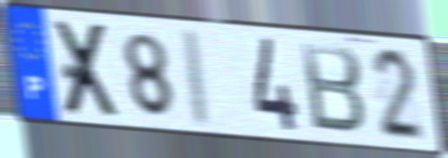2: (369, 46, 427, 146)
4: (252, 34, 301, 134)
8: (119, 31, 179, 120)
B: (298, 40, 368, 138)
I: (183, 25, 214, 131)
X: (51, 18, 123, 120)
